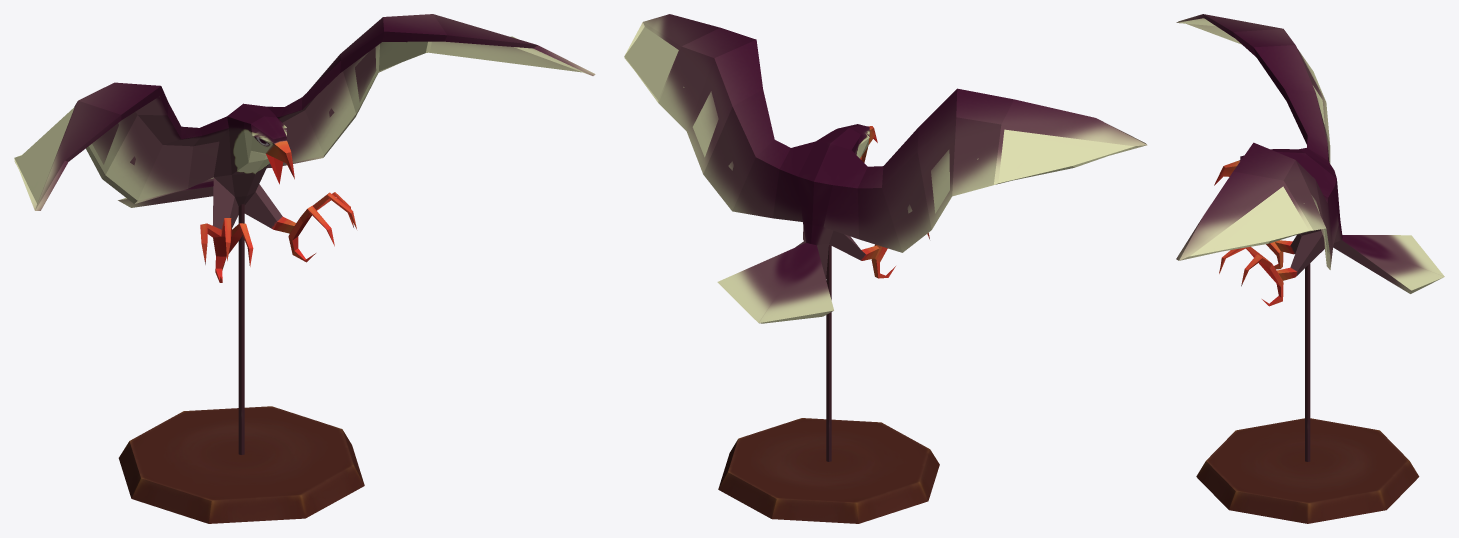
File: Asset_Enemy_Bird.fbx
The picture shows the model from 3 angles, left to right: view 1: azimuth 30°, elevation 25°; view 2: azimuth 150°, elevation 25°; view 3: azimuth 270°, elevation 25°; orthographic projection. The views are drawn at different scales.
Visible parts, largest first — view 1: bird_body1, Bird_Stand, bird_pole; view 2: bird_body1, Bird_Stand, bird_pole; view 3: bird_body1, Bird_Stand, bird_pole.
Boxes of the visible parts, box(x1,y1,x2,y2) form: bird_body1: box(14, 14, 595, 282); Bird_Stand: box(118, 406, 364, 523); bird_pole: box(238, 203, 244, 454); bird_body1: box(624, 14, 1147, 323); Bird_Stand: box(718, 418, 939, 523); bird_pole: box(826, 244, 831, 461); bird_body1: box(1176, 14, 1444, 306); Bird_Stand: box(1196, 418, 1419, 523); bird_pole: box(1305, 263, 1310, 461).
Size of the model in its own units: 83.28 by 61.87 by 39.47.
